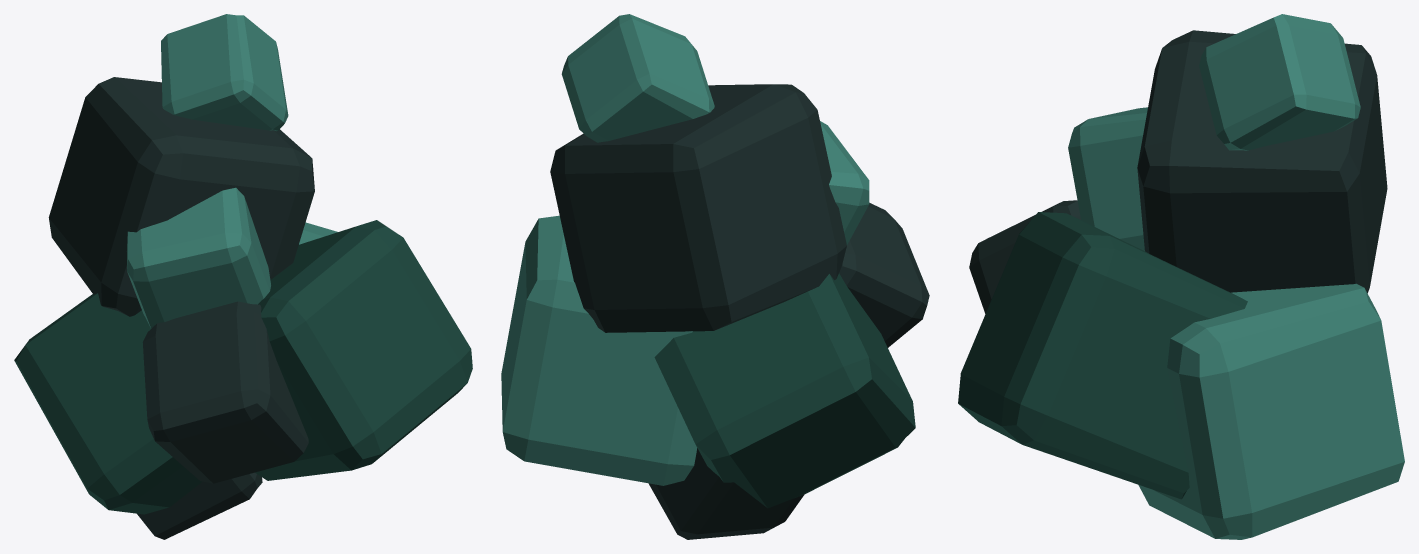
The model's file is bush01.fbx.
3 renders of one model, left to right at view 1: azimuth 30°, elevation 25°; view 2: azimuth 150°, elevation 25°; view 3: azimuth 270°, elevation 25°, orthographic. The views are drawn at different scales.
Visible parts, largest first — view 1: pCube2, pCube6, pCube5, pCube4, pCube7, pCube8, pCube1; view 2: pCube6, pCube4, pCube3, pCube8, pCube5, pCube1, pCube7; view 3: pCube3, pCube2, pCube6, pCube8, pCube7, pCube5.
Part boxes in pixels (box(x1,y1,x2,y2)): pCube2: box(255, 220, 472, 480); pCube6: box(48, 77, 314, 316); pCube5: box(142, 301, 308, 483); pCube4: box(14, 293, 202, 514); pCube7: box(127, 187, 270, 328); pCube8: box(161, 14, 288, 131); pCube1: box(137, 472, 262, 539); pCube6: box(550, 84, 846, 332); pCube4: box(654, 273, 915, 508); pCube3: box(501, 215, 696, 485); pCube8: box(561, 14, 714, 142); pCube5: box(839, 202, 929, 347); pCube1: box(648, 448, 804, 539); pCube7: box(820, 121, 869, 244); pCube3: box(1138, 283, 1404, 539); pCube2: box(958, 212, 1247, 499); pCube6: box(1137, 30, 1387, 293); pCube8: box(1199, 14, 1360, 150); pCube7: box(1068, 107, 1147, 250); pCube5: box(969, 200, 1080, 313).
Size of the model in its own units: 1.58 by 2.03 by 1.52.
